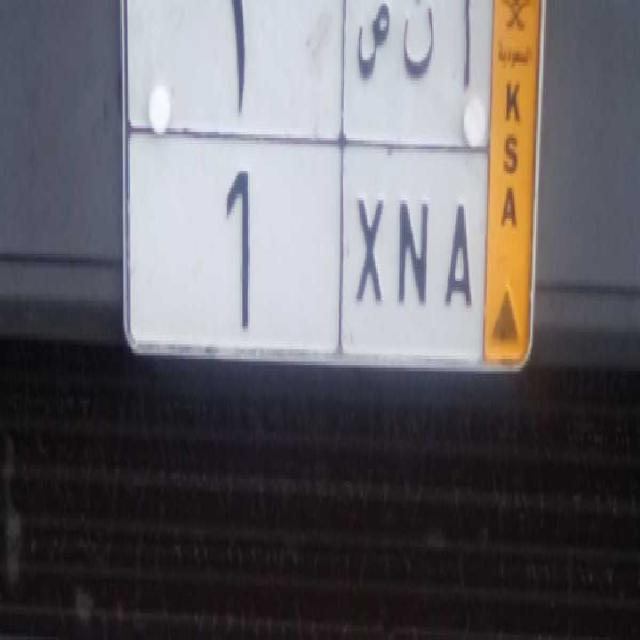license_plate: (125, 122, 487, 367)
